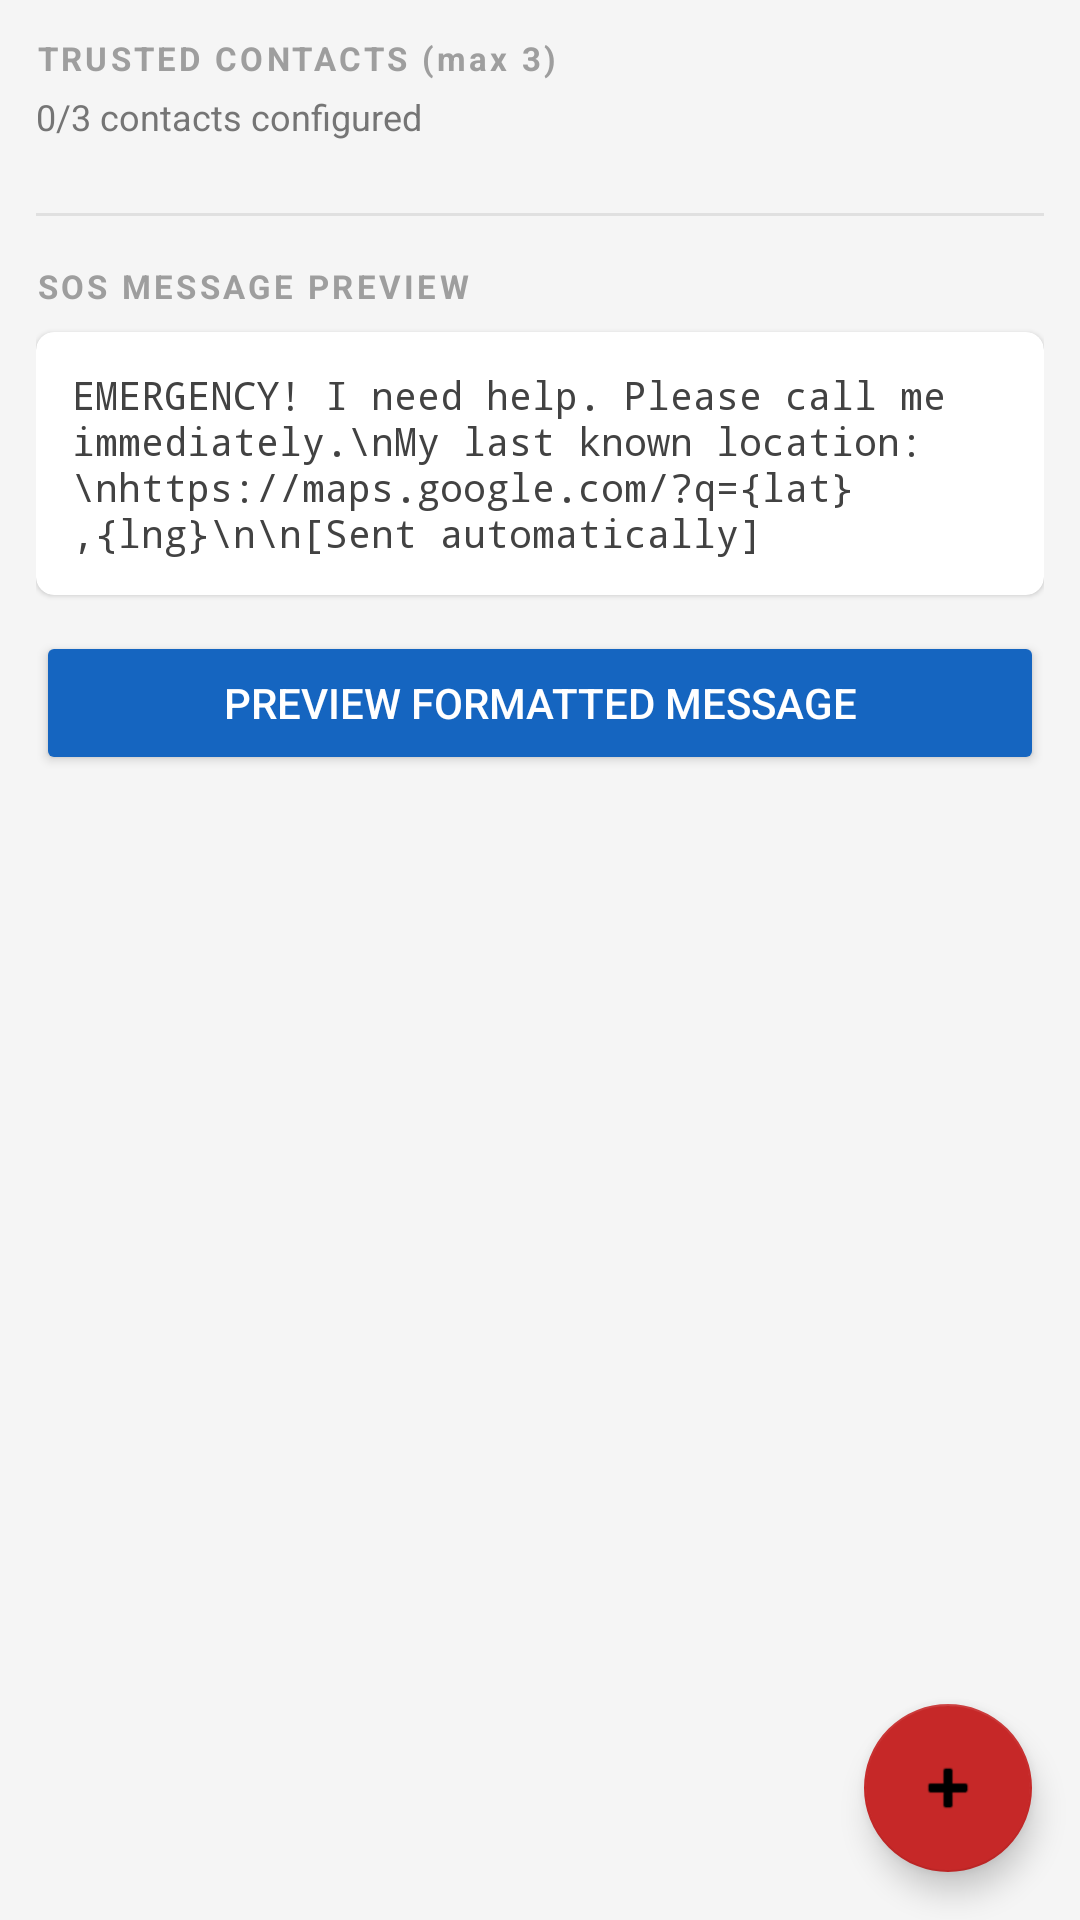

Screen size 1080*1920. Icon name, then its box in pixels as (left=x1, top=y1, right=x2, bottom=y2):
Add SOS contact: (left=864, top=1704, right=1032, bottom=1872)
